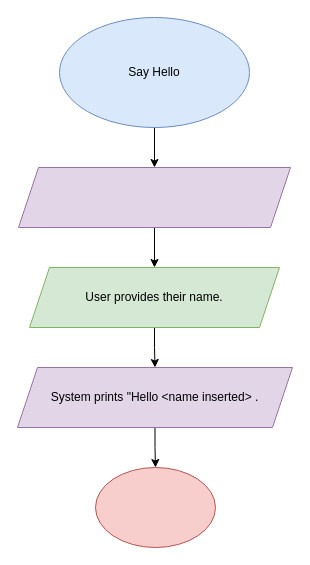
Some shapes in this 310 by 565 pixel diagram are drawn without their labels. Each missing label, with the centre of its shape:
"End of Process" belongs at (x=155, y=507).
"What is your name?" belongs at (x=154, y=197).
